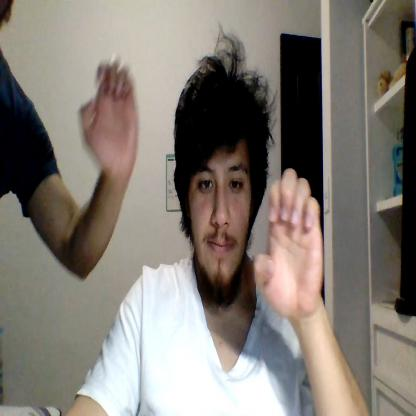E: (254, 168, 323, 313), (78, 57, 140, 175)
